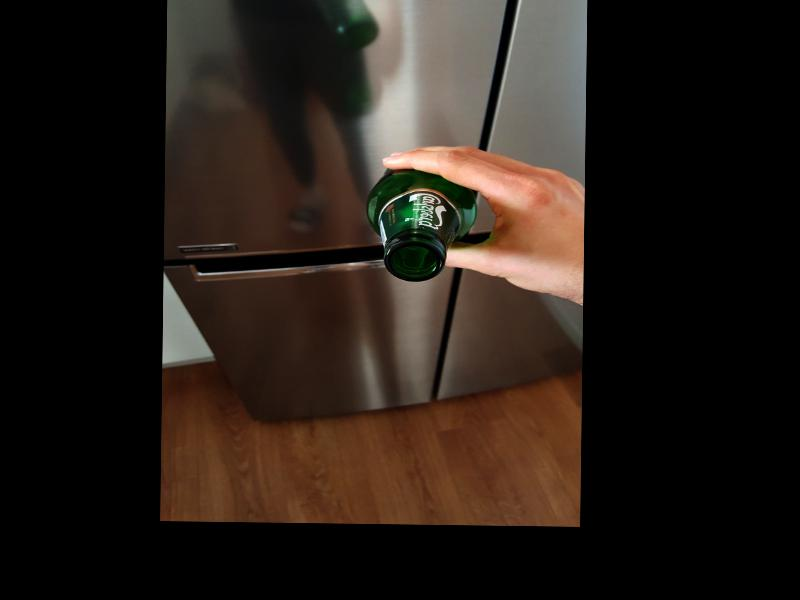Beer: (366, 168, 474, 282)
